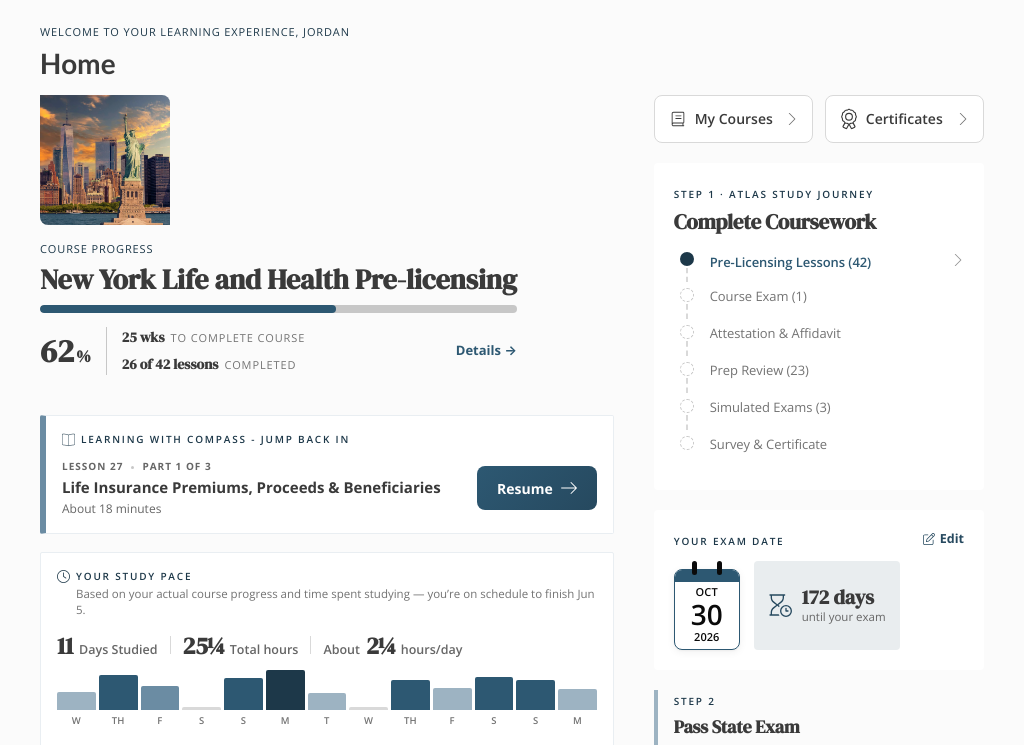
the exam-date chip › reads the date the learner entered
Click the button "Resume".
click(537, 488)  # box [477,466,597,510]
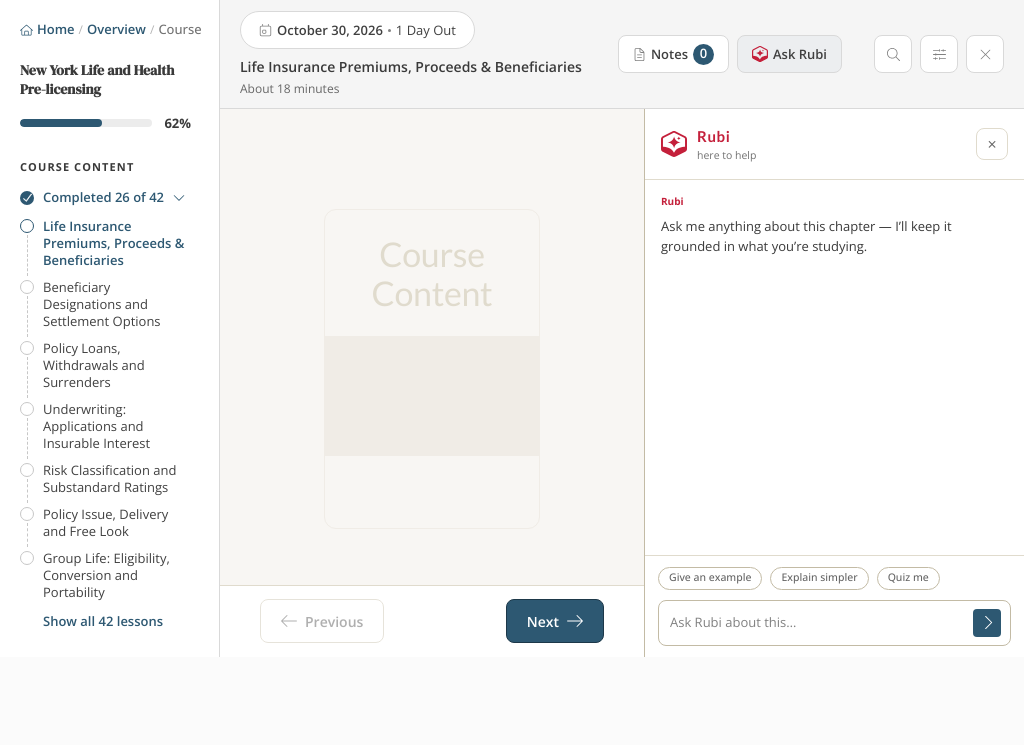
Expected: the text "1 Day Out" is shown, [396,20,456,40]
